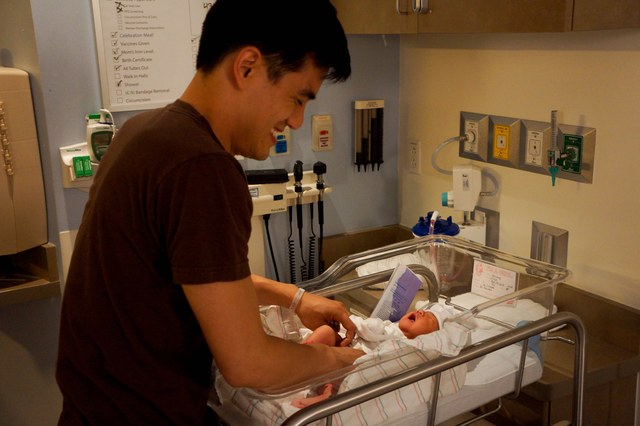Himalaya Baby Soap: (32, 21, 608, 405)
